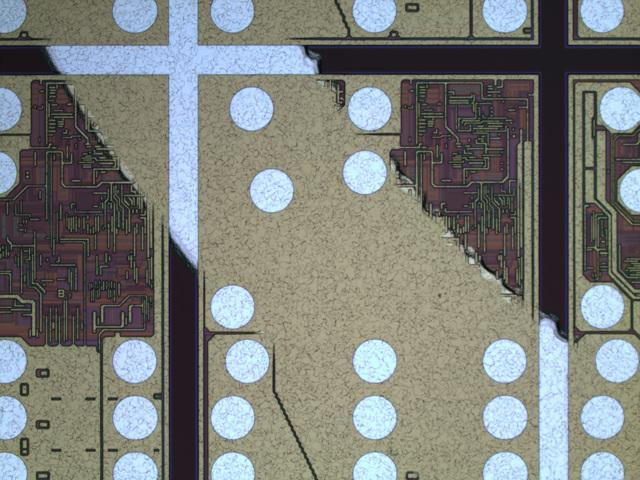BLOCK ETCH: (25, 1, 640, 480)
